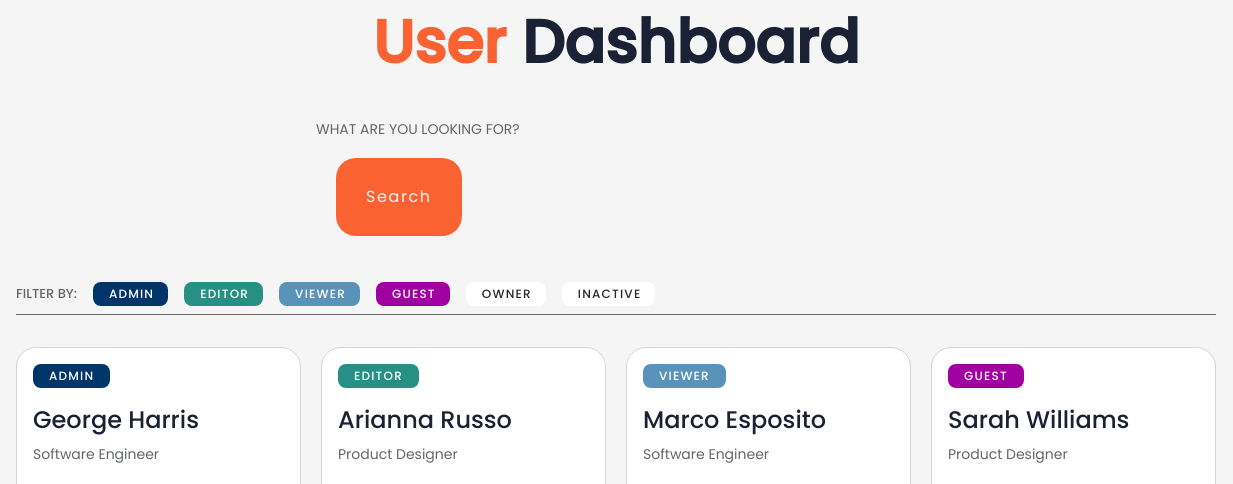
Test: User Dashboard - Integration Tests › Filter Journey › user can deselect permission filter to expand results
The width and height of the screenshot is (1233, 484).
expect the heading "George Harris" is shown: met, box x1=33 y1=403 x2=199 y2=436
User selects Admin filter
Click the button "ADMIN" at (131, 294), box x1=93 y1=282 x2=168 y2=306
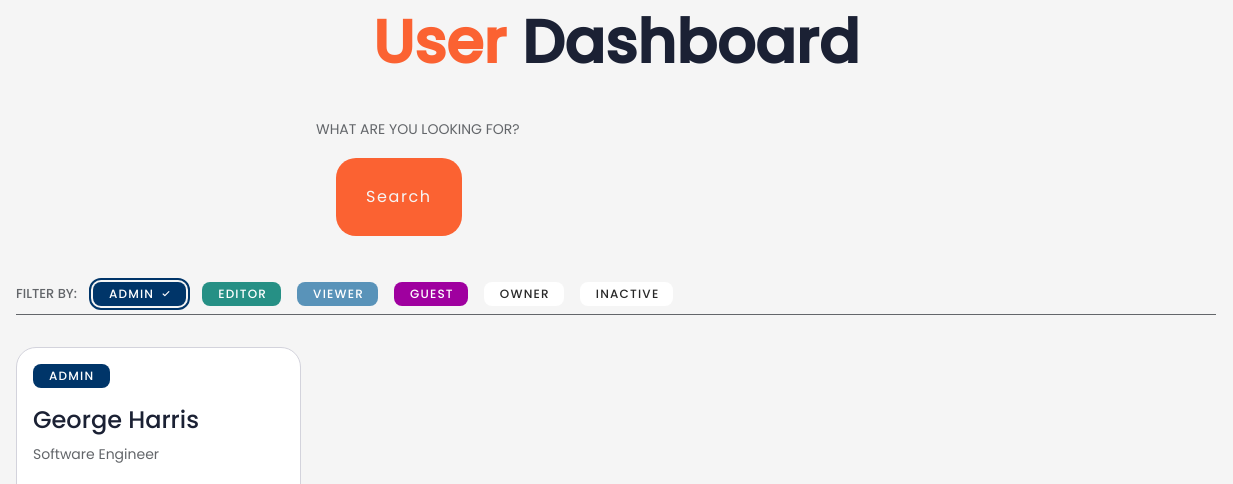
expect the heading "George Harris" is shown: met, box x1=33 y1=403 x2=199 y2=436
expect the heading "Arianna Russo" is gone: met
User deselects Admin filter by clicking again
Click the button "ADMIN" at (140, 294), box x1=93 y1=282 x2=186 y2=306
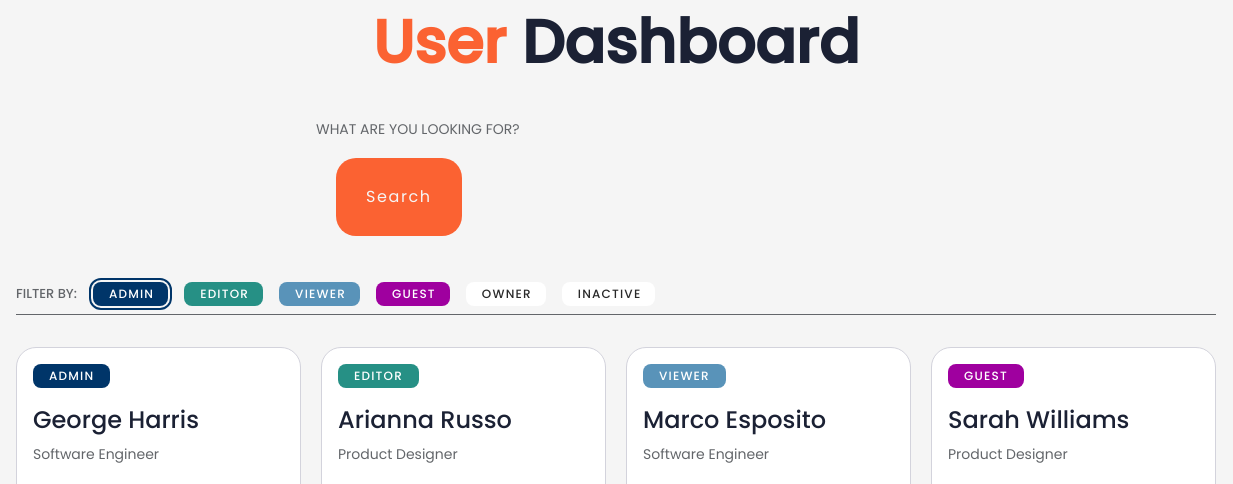
expect the heading "George Harris" is shown: met, box x1=33 y1=403 x2=199 y2=436
expect the heading "Arianna Russo" is shown: met, box x1=338 y1=403 x2=512 y2=436
expect the heading "Marco Esposito" is shown: met, box x1=643 y1=403 x2=826 y2=436
